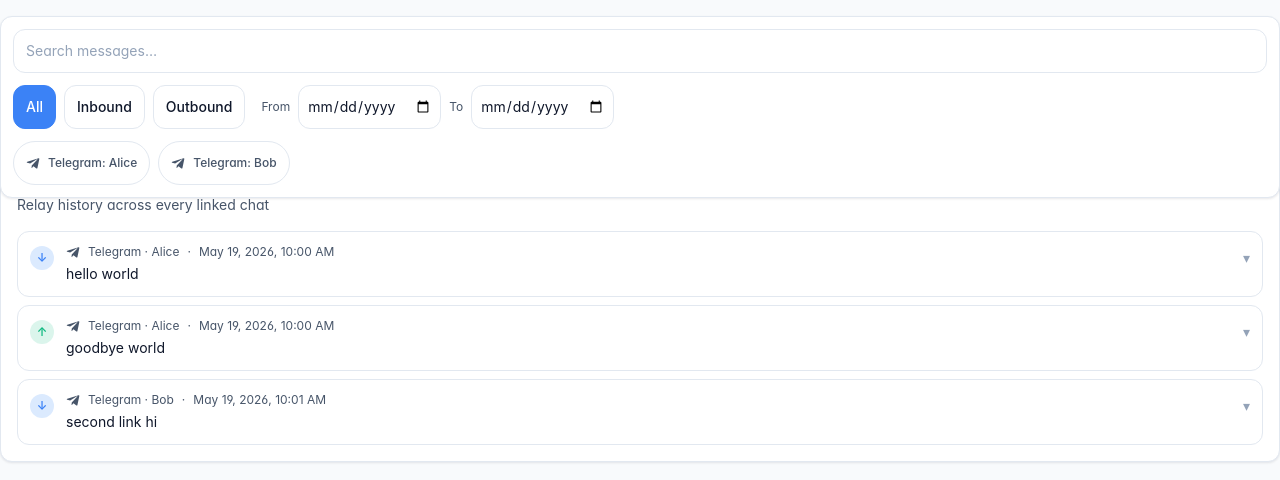
Test: <Messages /> › client-filters by direction
The image size is (1280, 480).
Expected: the text "hello world" is shown, [66,265,139,282]
Click the button "Outbound": {"x": 199, "y": 107} [153,85,245,129]
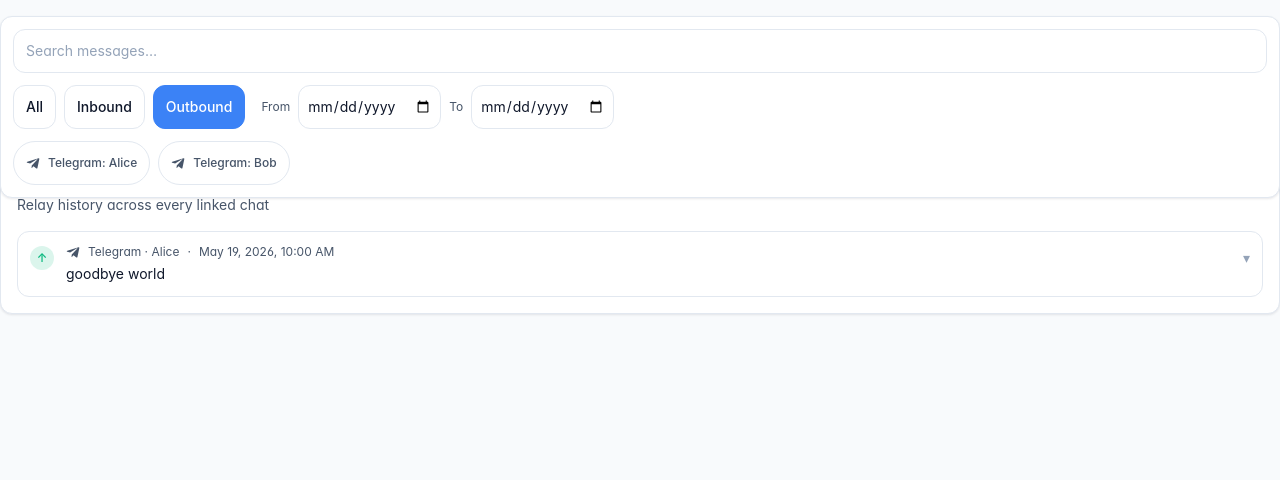
Expected: the text "goodbye world" is shown, [66,265,165,282]
Expected: the button "hello world" is gone
